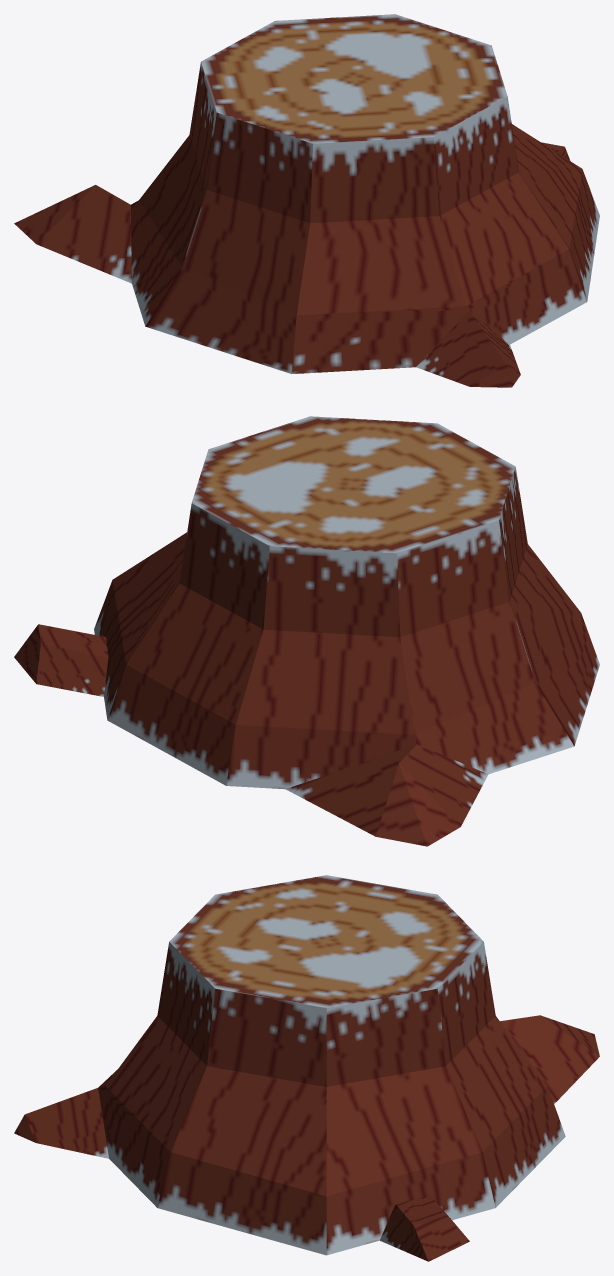
File: Stump2.glb
3 views of the same model, one above another, from view 1: azimuth 30°, elevation 25°; view 2: azimuth 150°, elevation 25°; view 3: azimuth 270°, elevation 25° (orthographic). The views are drawn at different scales.
Parts seen in each view (by area): view 1: Sphere; view 2: Sphere; view 3: Sphere.
Part boxes in pixels (box(x1,y1,x2,y2)): Sphere: box(14, 14, 599, 387); Sphere: box(14, 416, 599, 846); Sphere: box(14, 875, 599, 1261).
Bounding box in the file's own units: 0.9574 × 0.3751 × 1.02.
Materials: 1 (1 with a texture image).
